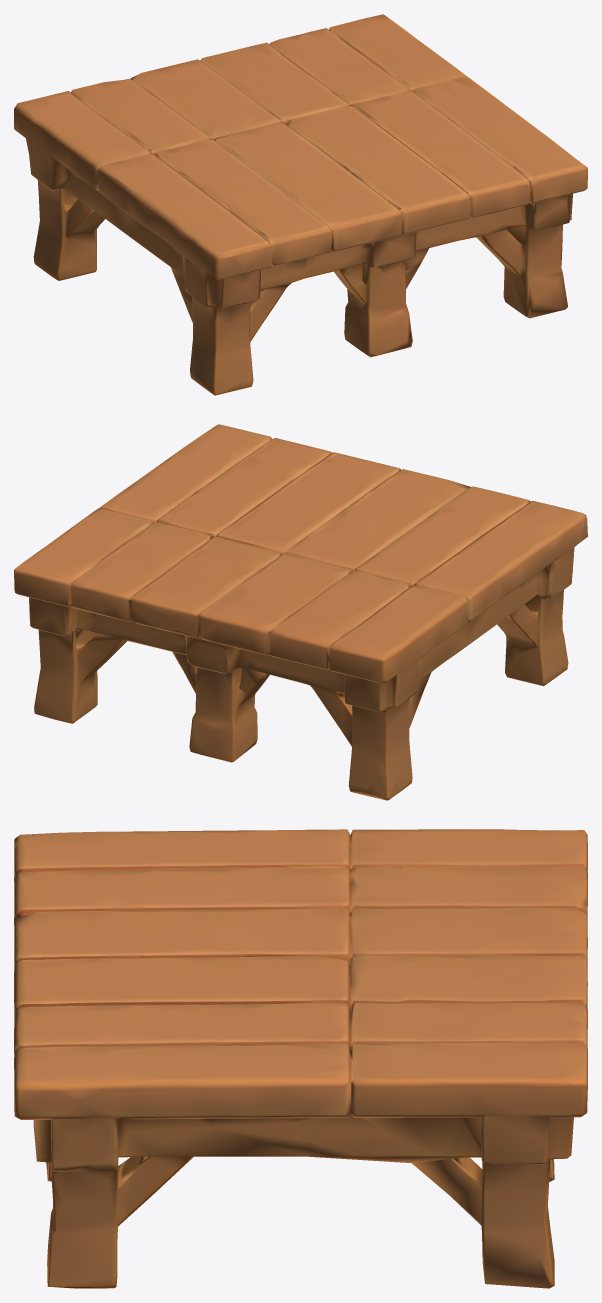
Rendered from muelle.glb.
The picture shows the model from 3 angles, top to bottom: view 1: azimuth 30°, elevation 25°; view 2: azimuth 150°, elevation 25°; view 3: azimuth 270°, elevation 25°; orthographic projection. The views are drawn at different scales.
Visible parts, largest first — view 1: tripo_node_e8dd501d-e682-4fbe-93bc-dbb62c03c3c5; view 2: tripo_node_e8dd501d-e682-4fbe-93bc-dbb62c03c3c5; view 3: tripo_node_e8dd501d-e682-4fbe-93bc-dbb62c03c3c5.
Boxes of the visible parts, x1,y1,x2,y2 form: tripo_node_e8dd501d-e682-4fbe-93bc-dbb62c03c3c5: (14,14,587,395); tripo_node_e8dd501d-e682-4fbe-93bc-dbb62c03c3c5: (14,424,587,800); tripo_node_e8dd501d-e682-4fbe-93bc-dbb62c03c3c5: (14,829,587,1288).
Bounding box in the file's own units: 1 × 0.3931 × 0.9506.
Materials: 1 (1 with a texture image).
